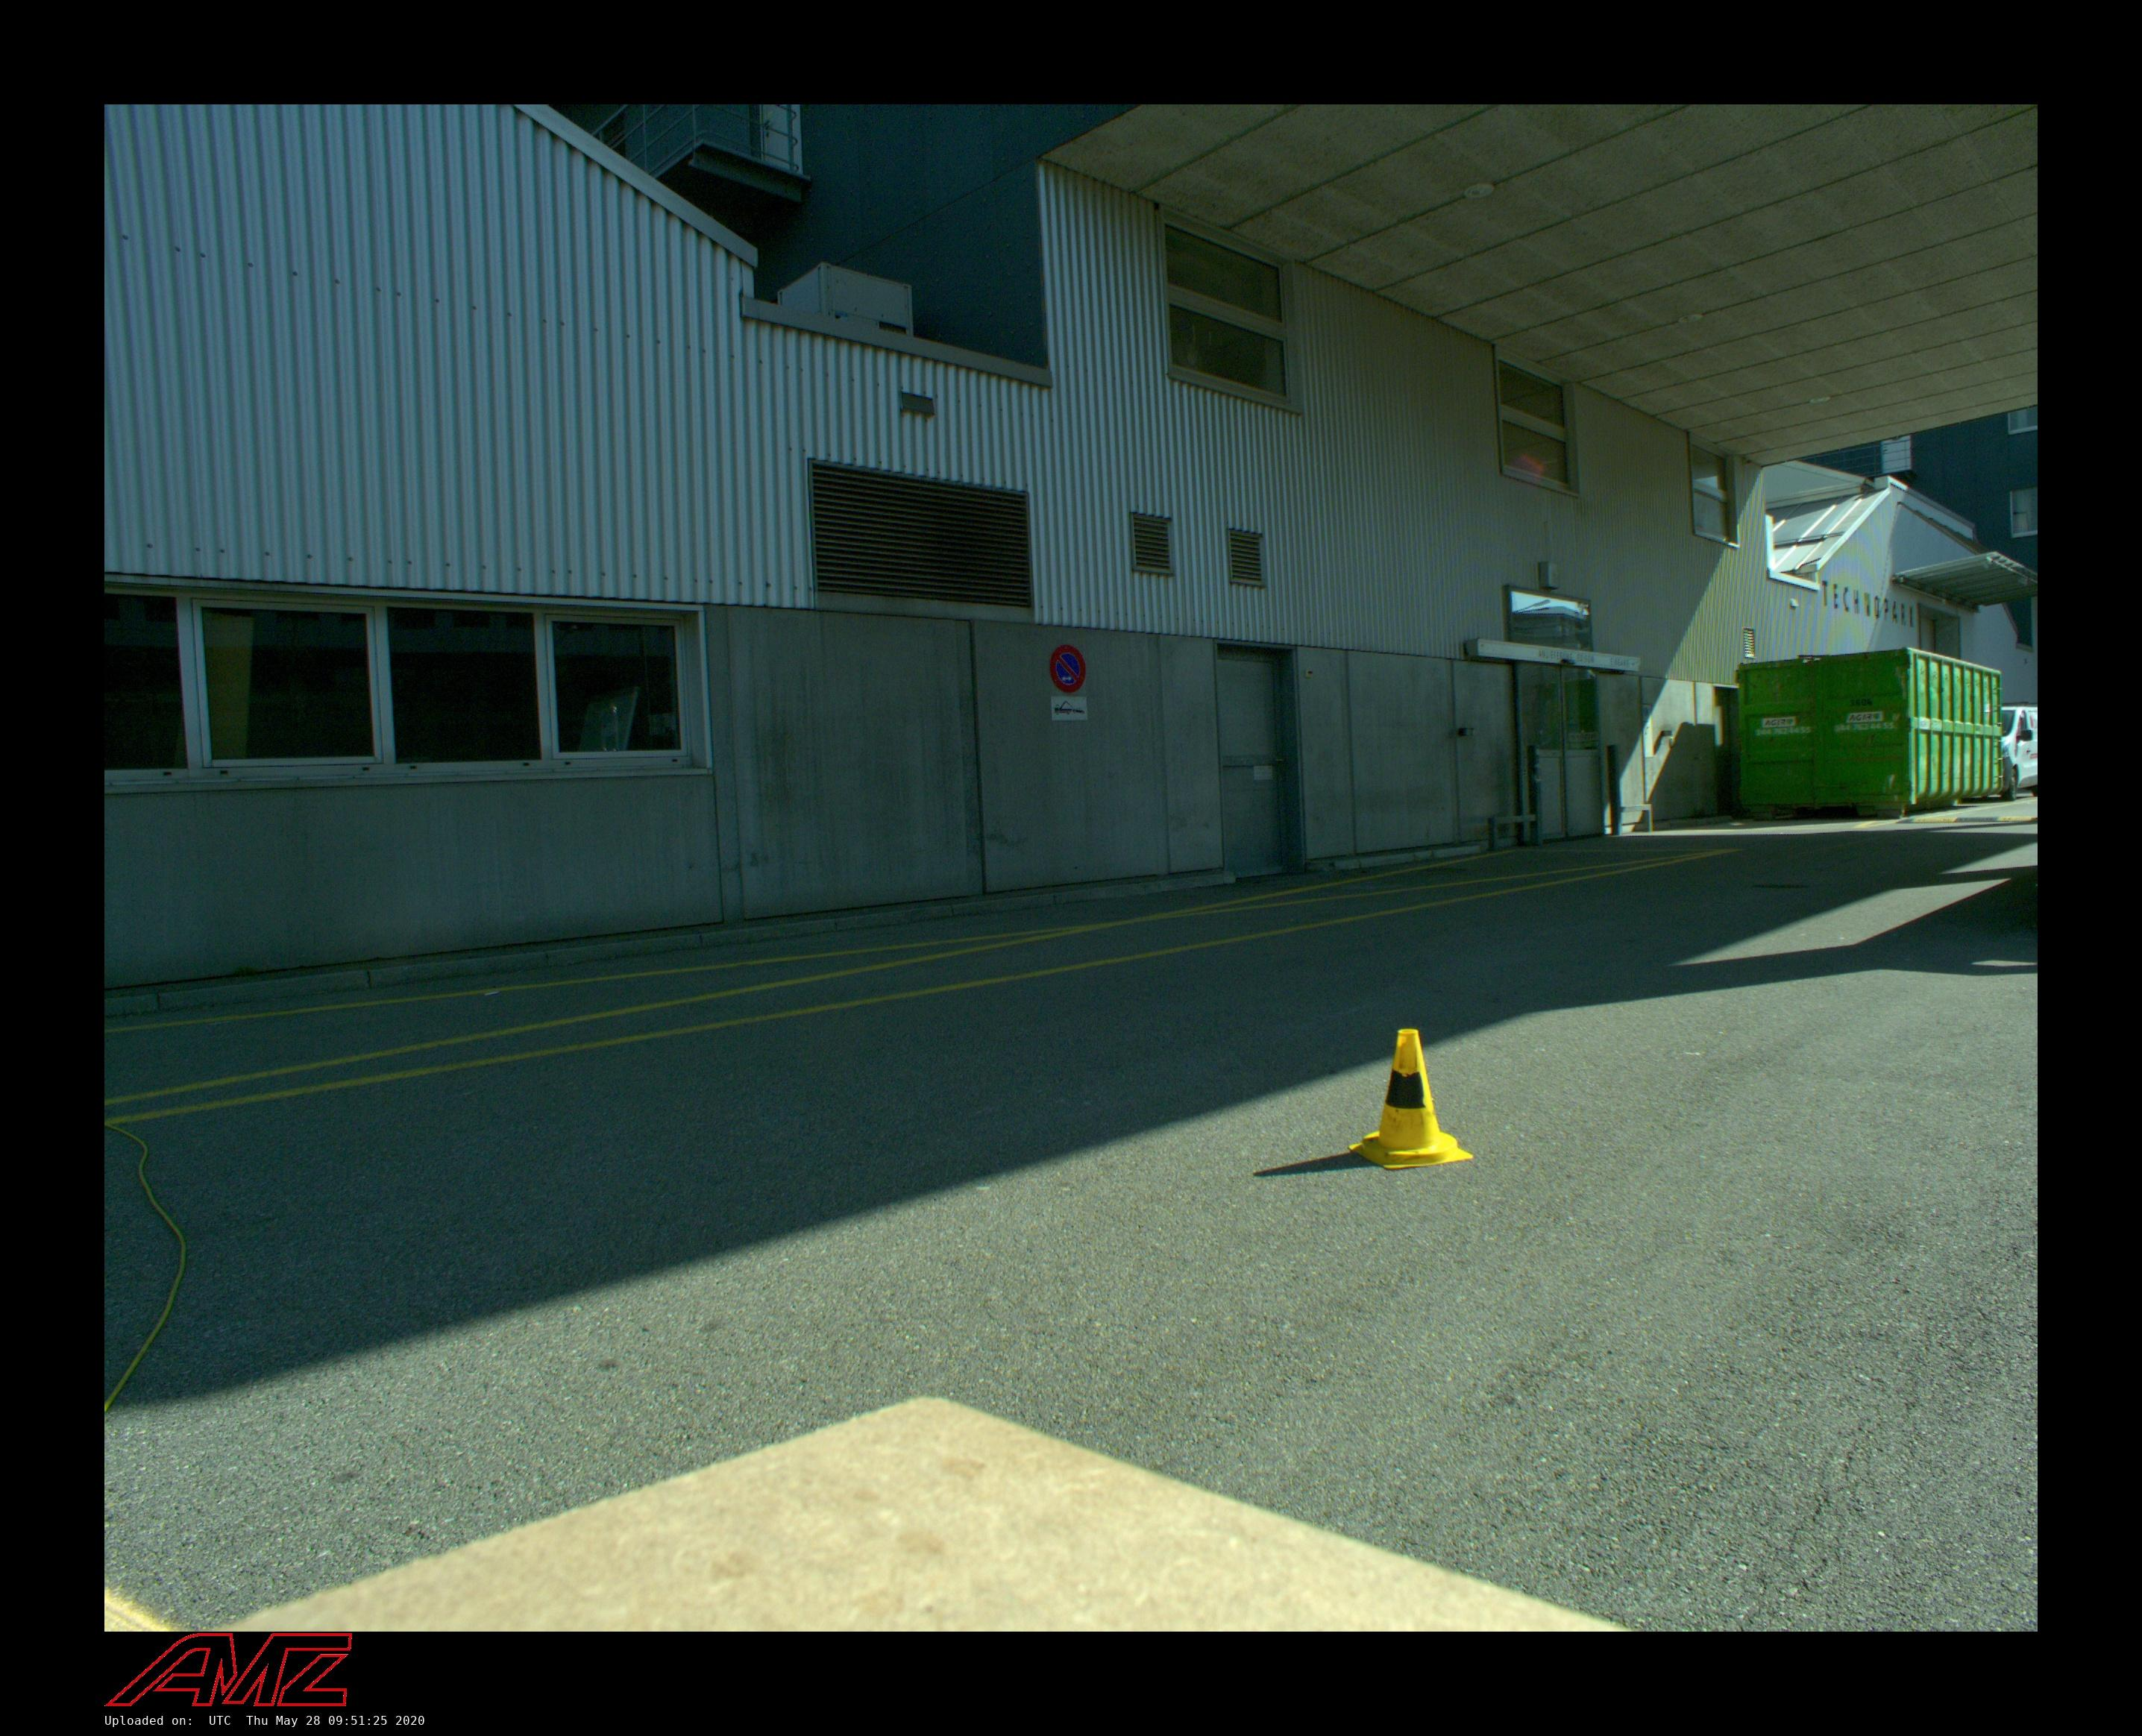yellow_cone: (1348, 1029, 1474, 1171)
